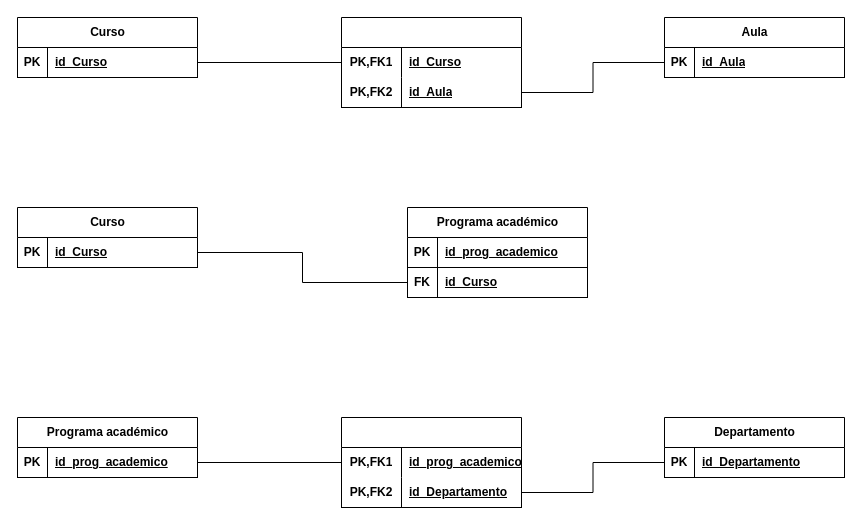
This 862x525 diagram has some shape labels left out. The box of each missing label's shape, as (x1, y1, x2, y2) in pixels:
asociado: (340, 416, 522, 508)
se lleva a cabo: (340, 16, 522, 108)
